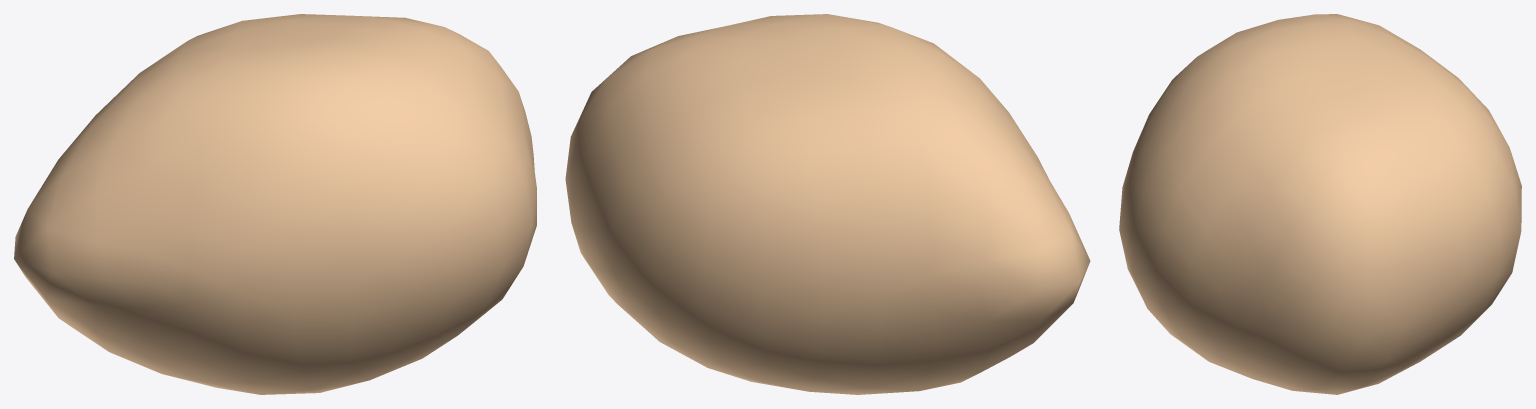
File: amber.glb
3 renders of one model, left to right at view 1: azimuth 30°, elevation 25°; view 2: azimuth 150°, elevation 25°; view 3: azimuth 270°, elevation 25°, orthographic. The views are drawn at different scales.
Parts seen in each view (by area): view 1: amber; view 2: amber; view 3: amber.
Part boxes in pixels (x1,y1,x2,y2): amber: (14,14,536,394); amber: (565,14,1090,394); amber: (1119,14,1521,394).
Size of the model in its own units: 0.25 by 0.1513 by 0.183.
